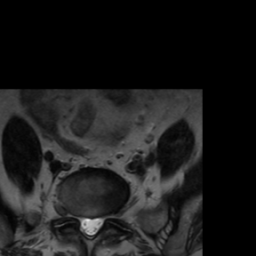CCS_normal: (86, 209, 94, 244)
LFS_stenosis: (102, 205, 111, 227)
LLS_normal: (94, 209, 102, 238)
RFS_severe_stenosis: (70, 204, 78, 227)
RLS_normal: (78, 208, 86, 239)
